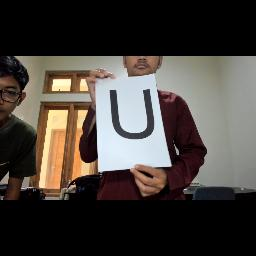u: (105, 86, 163, 144)
